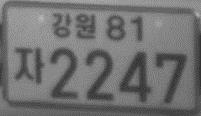1: (128, 14, 148, 42)
2: (83, 48, 115, 101), (48, 47, 78, 98)
4: (118, 50, 150, 103)
7: (154, 51, 188, 104)
8: (105, 14, 126, 42)
강원_H: (51, 12, 96, 40)
자: (13, 46, 45, 85)
